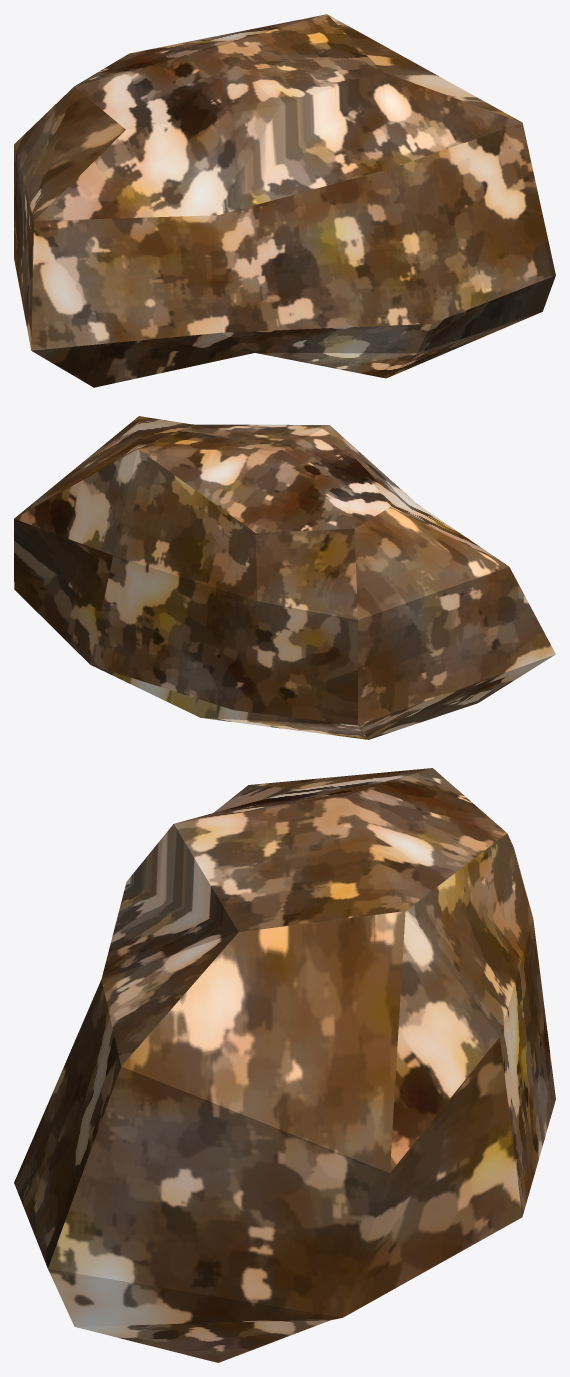
Rendered from rock_01.fbx.
The picture shows the model from 3 angles, top to bottom: view 1: azimuth 30°, elevation 25°; view 2: azimuth 150°, elevation 25°; view 3: azimuth 270°, elevation 25°; orthographic projection. The views are drawn at different scales.
Visible parts, largest first — view 1: Rock; view 2: Rock; view 3: Rock.
Boxes of the visible parts, box(x1,y1,x2,y2) form: Rock: box(14, 14, 555, 387); Rock: box(14, 416, 555, 739); Rock: box(14, 768, 555, 1362).
Bounding box in the file's own units: 283 × 169 × 174.
